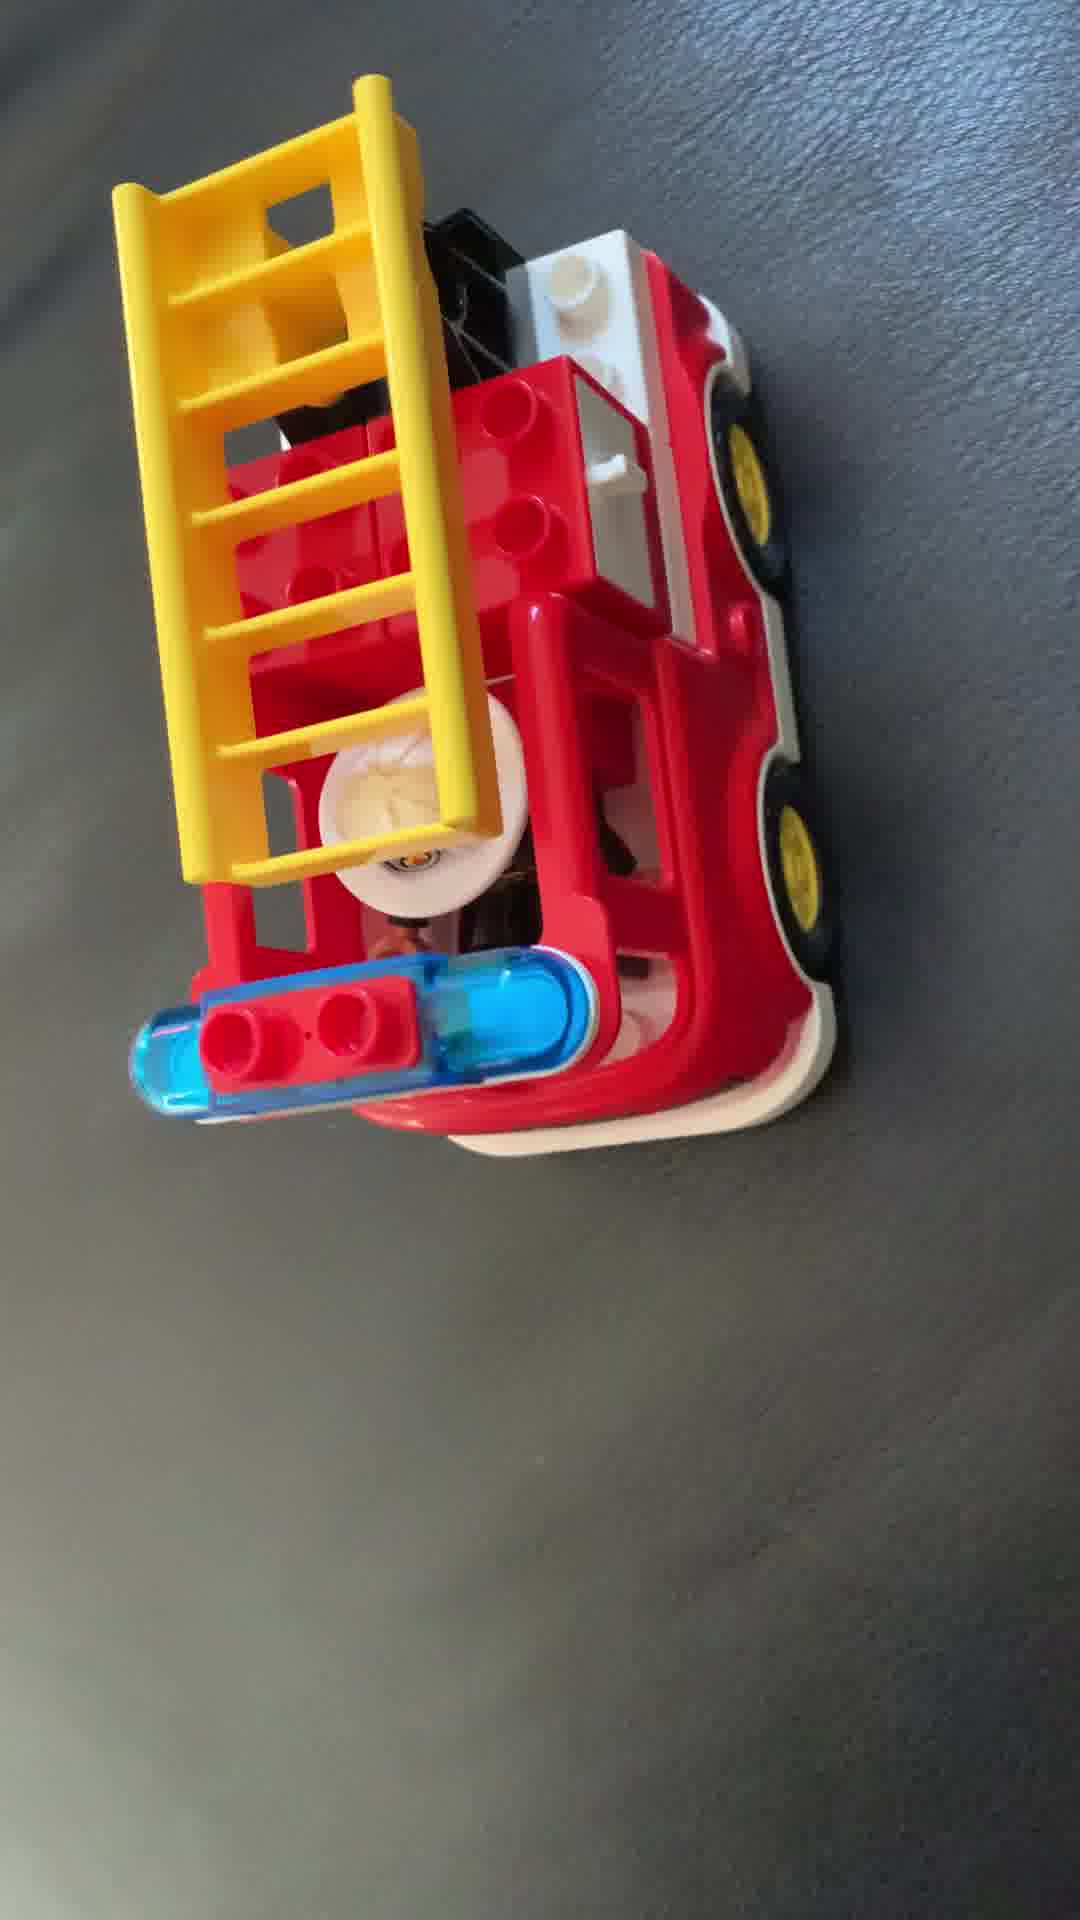lego fire truck: (98, 71, 852, 1174)
